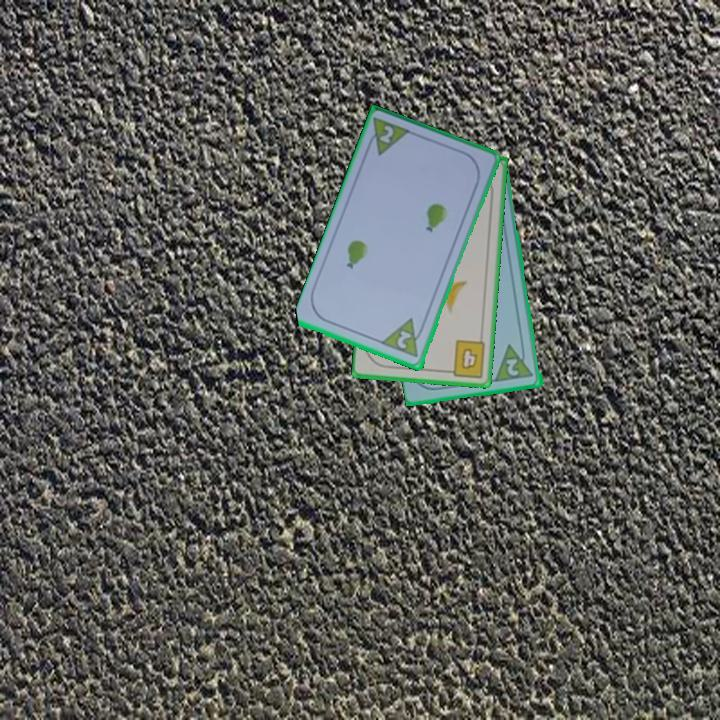2p: (493, 340, 536, 385), (393, 327, 414, 352), (376, 122, 397, 147)
4b: (443, 337, 488, 380)
